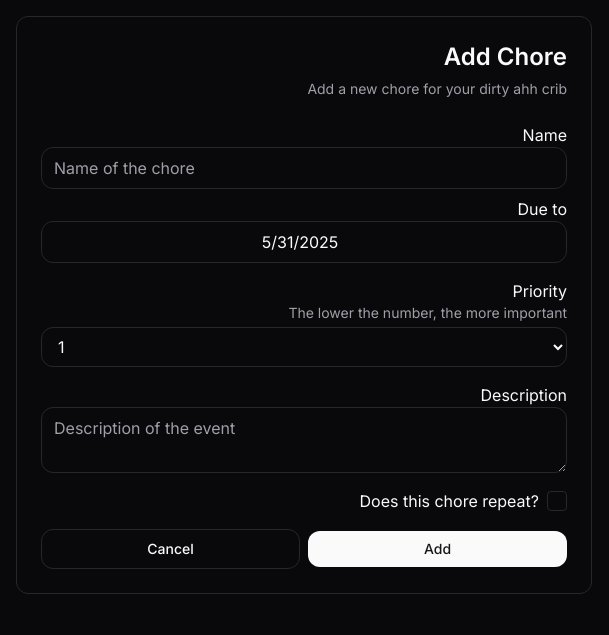
Test case: Chores Page Tests › should show validation errors in chore add form
This screenshot has width=609, height=635.
Click the button showing "add": {"x": 438, "y": 549} top-left (308, 531), bottom-right (567, 567)
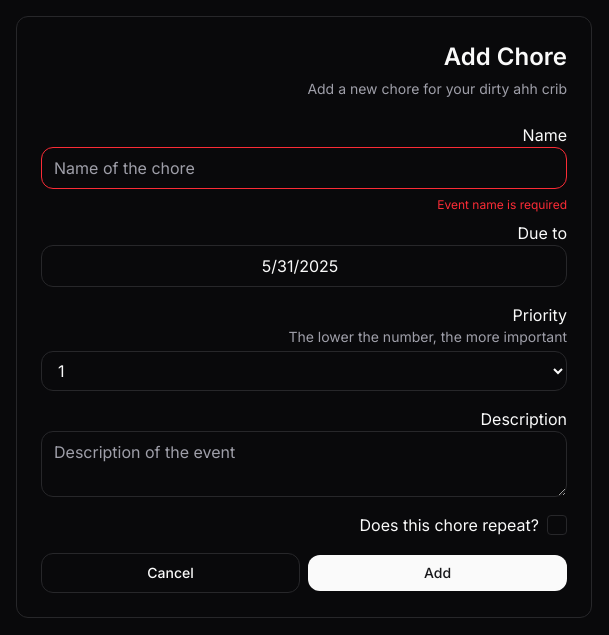
Expected: the text "Event name is required" is shown, top-left (437, 197), bottom-right (567, 213)
